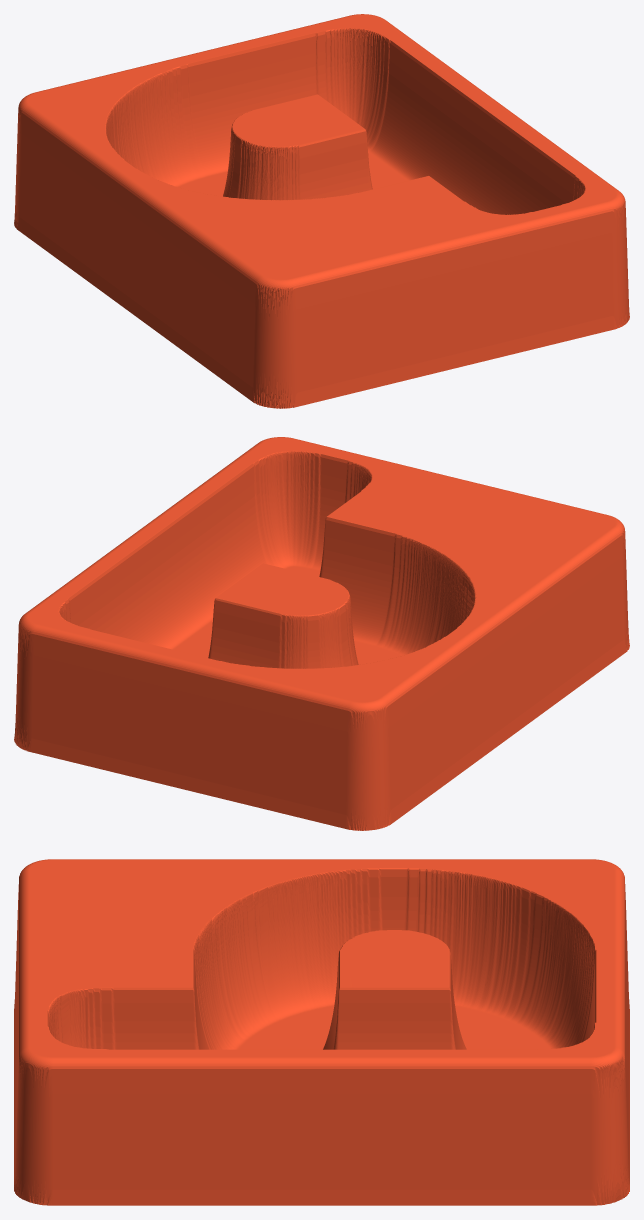
The model's file is mold.glb.
The picture shows the model from 3 angles, top to bottom: view 1: azimuth 30°, elevation 25°; view 2: azimuth 150°, elevation 25°; view 3: azimuth 270°, elevation 25°; orthographic projection. The views are drawn at different scales.
Visible parts, largest first — view 1: geometry_0; view 2: geometry_0; view 3: geometry_0.
Part boxes in pixels (x1=…): geometry_0: x1=14, y1=14, x2=629, y2=408; geometry_0: x1=14, y1=437, x2=629, y2=830; geometry_0: x1=14, y1=859, x2=629, y2=1205.
Bounding box in the file's own units: 0.1158 × 0.0365 × 0.1435.
